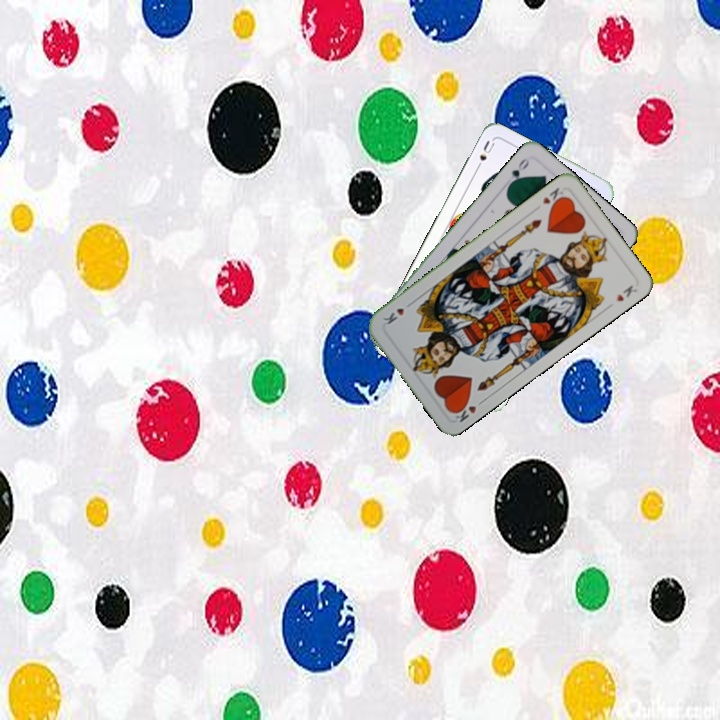GO: (504, 154, 532, 189)
HK: (448, 395, 487, 425), (538, 183, 567, 210)
SU: (471, 136, 497, 174)
